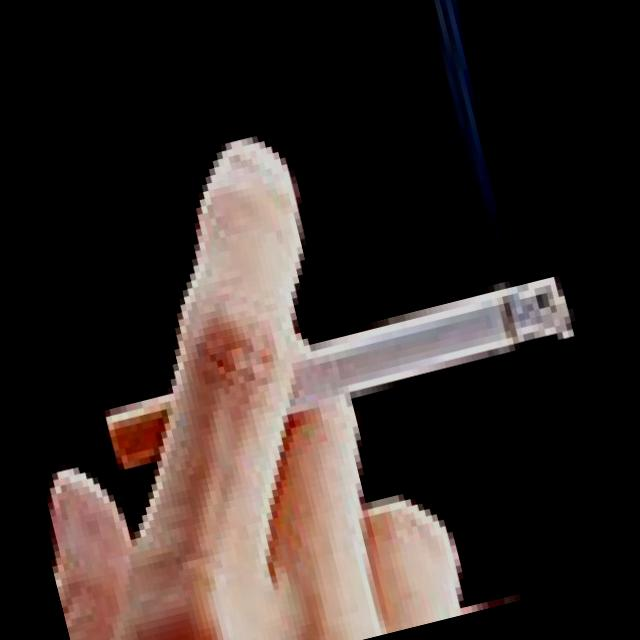cigarette: (79, 262, 575, 460)
